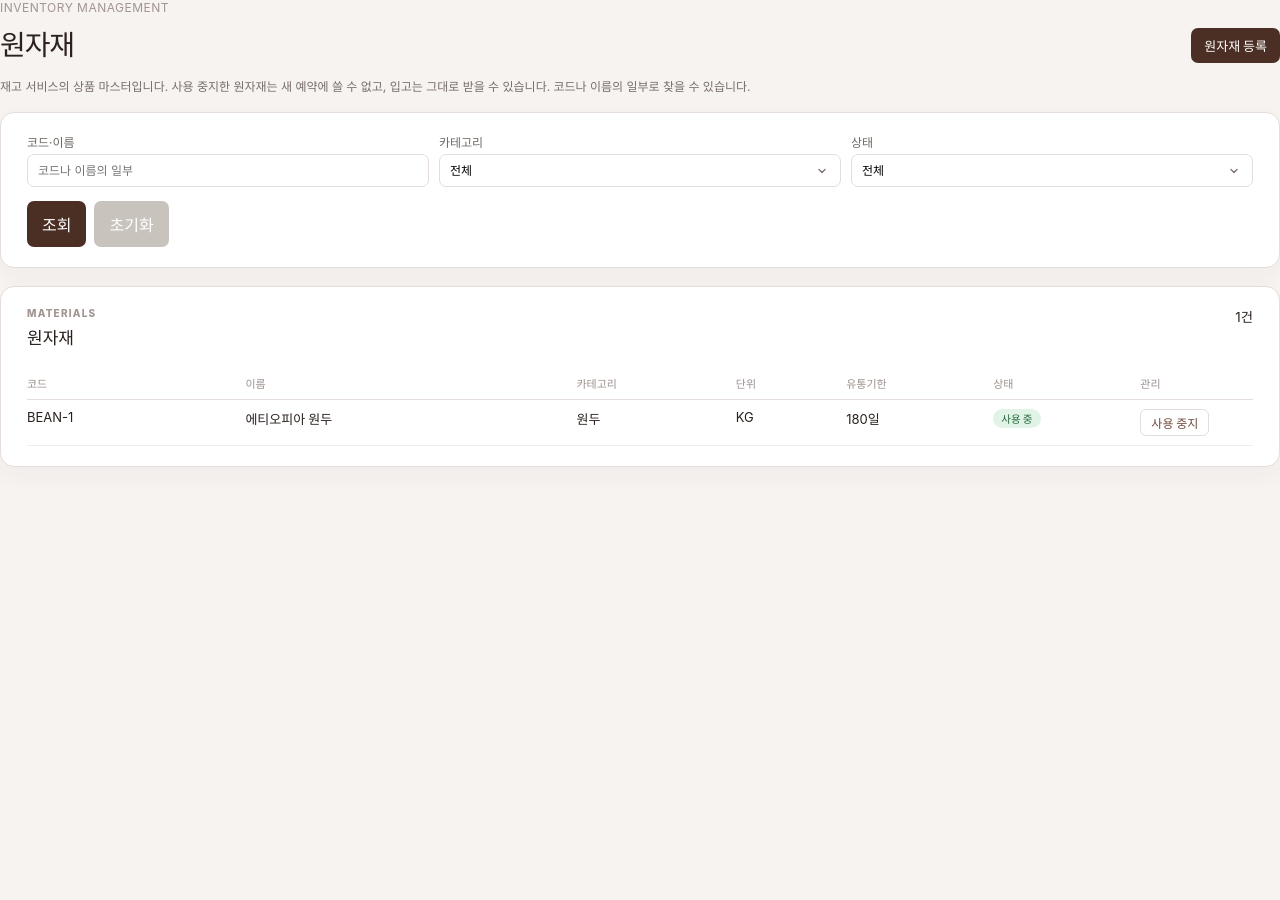
Test: MaterialsPage › 상태 변경 › 요청이 실패하면 오류 문구를 보여준다
The image size is (1280, 900).
Click the button with aria-label "에티오피아 원두 사용 중지" at [1175, 422], box [1140,409,1209,436]
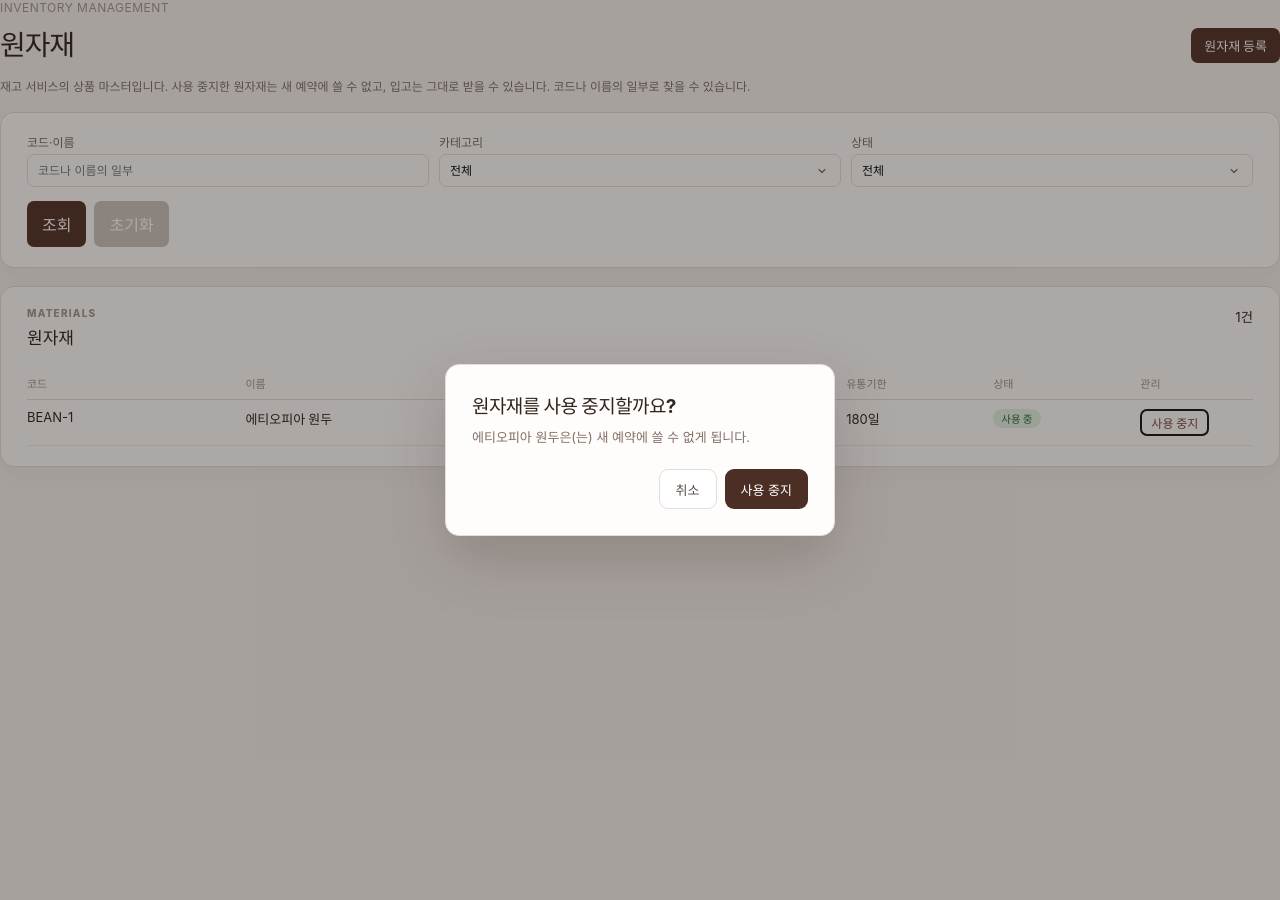
Click the button "사용 중지" at [766, 489], box [724,469,808,509]
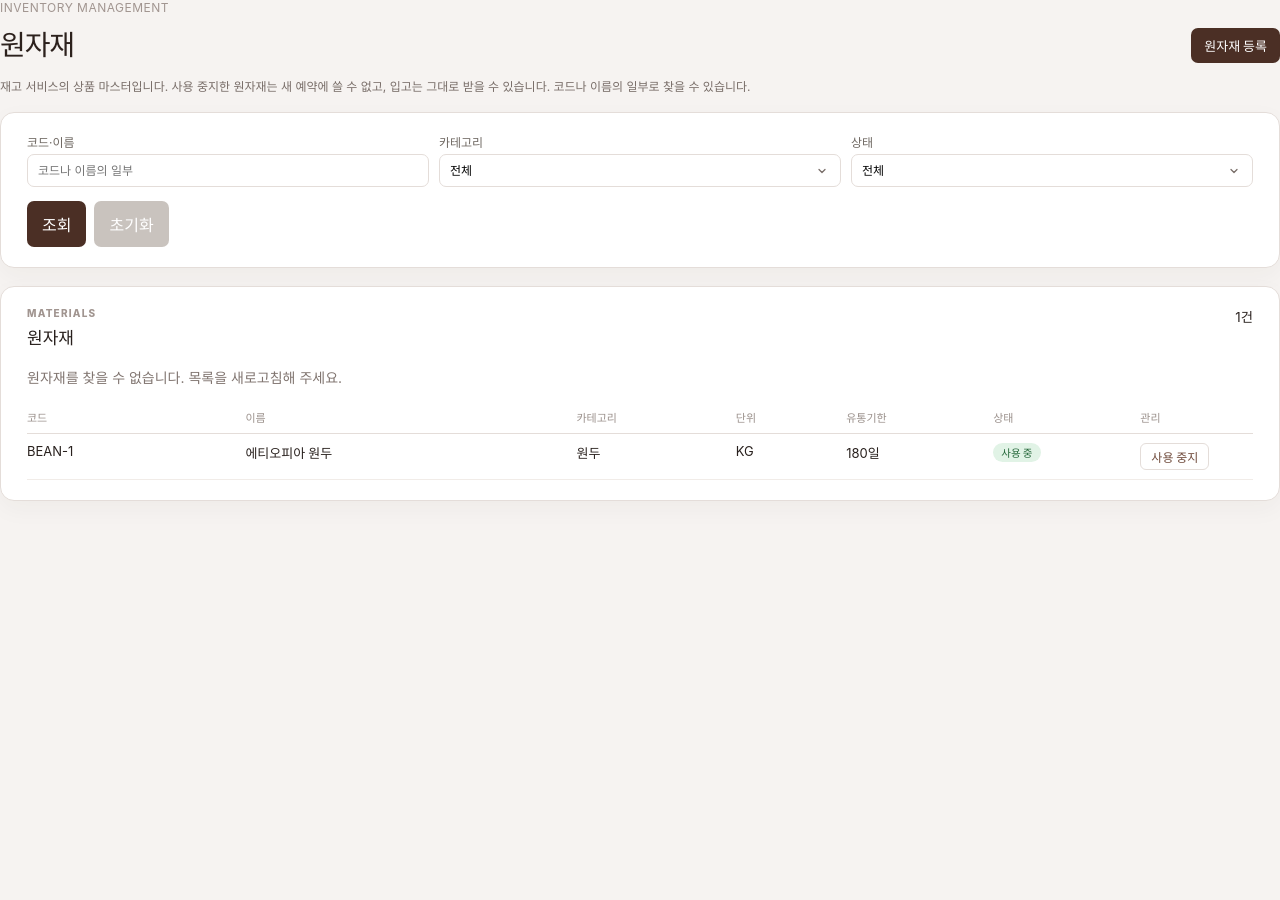
Expected: the message shows "원자재를 찾을 수 없습니다", [27,369,342,386]
